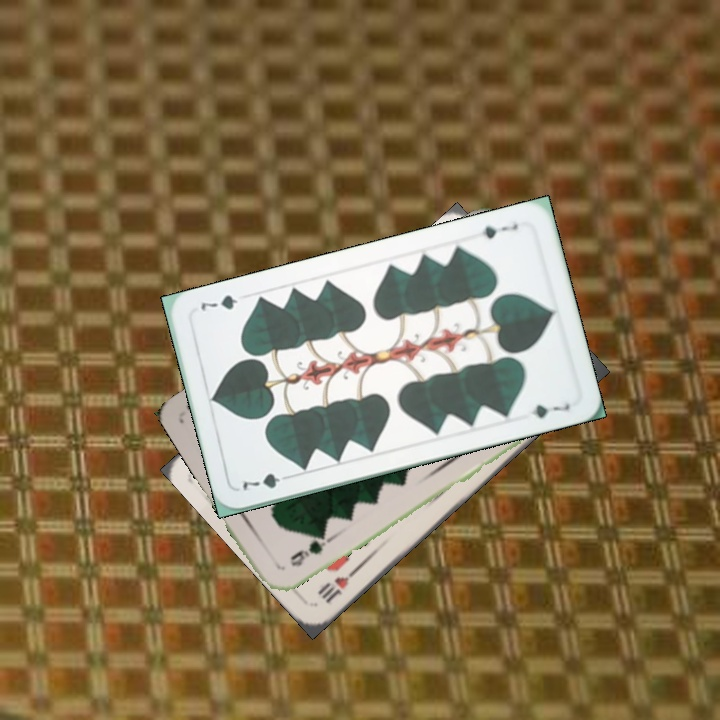G7: (238, 469, 295, 493), (478, 219, 521, 242)
G9: (285, 529, 333, 570)
H10: (313, 563, 361, 606)
